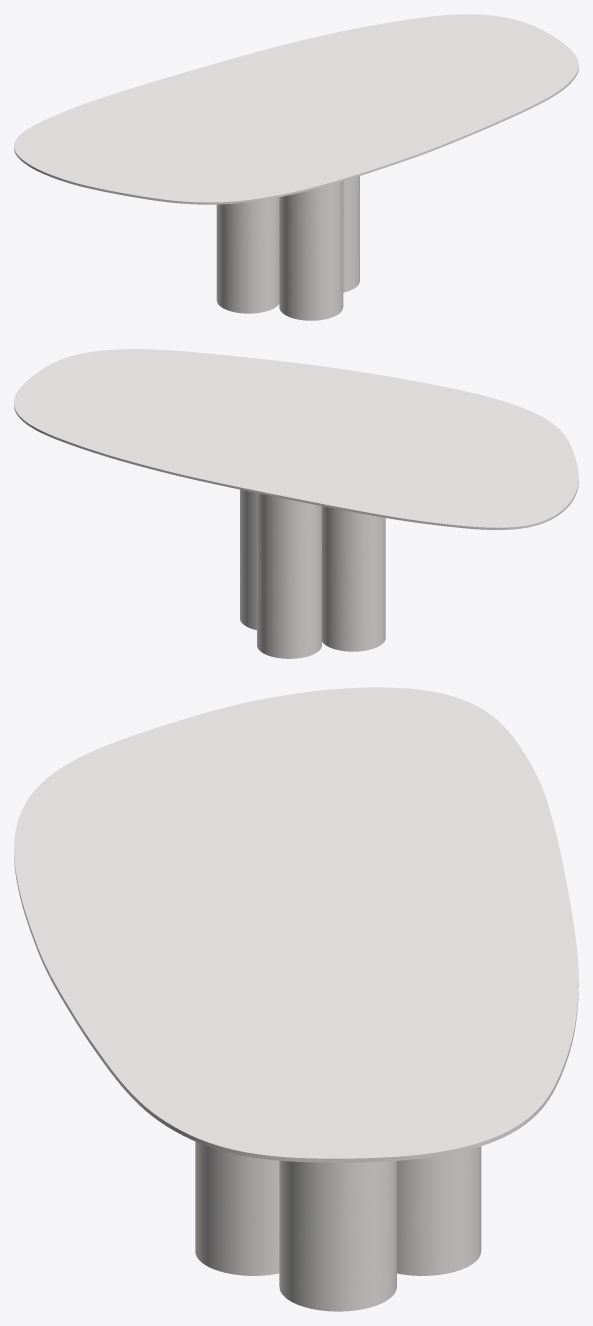
File: purewhite_leaf2_facet_secondtable.glb
The picture shows the model from 3 angles, top to bottom: view 1: azimuth 30°, elevation 25°; view 2: azimuth 150°, elevation 25°; view 3: azimuth 270°, elevation 25°; orthographic projection. The views are drawn at different scales.
Parts seen in each view (by area): view 1: facet_leaf2, secondtable; view 2: facet_leaf2, secondtable; view 3: facet_leaf2, secondtable.
Boxes of the visible parts, left/top/right/bottom form: facet_leaf2: left=14, top=14, right=578, bottom=204; secondtable: left=216, top=176, right=359, bottom=320; facet_leaf2: left=14, top=349, right=578, bottom=529; secondtable: left=240, top=489, right=385, bottom=658; facet_leaf2: left=14, top=687, right=578, bottom=1162; secondtable: left=195, top=1141, right=481, bottom=1311.
Bounding box in the file's own units: 7.5 × 2.5 × 3.8.
1 material, 1 textured.
